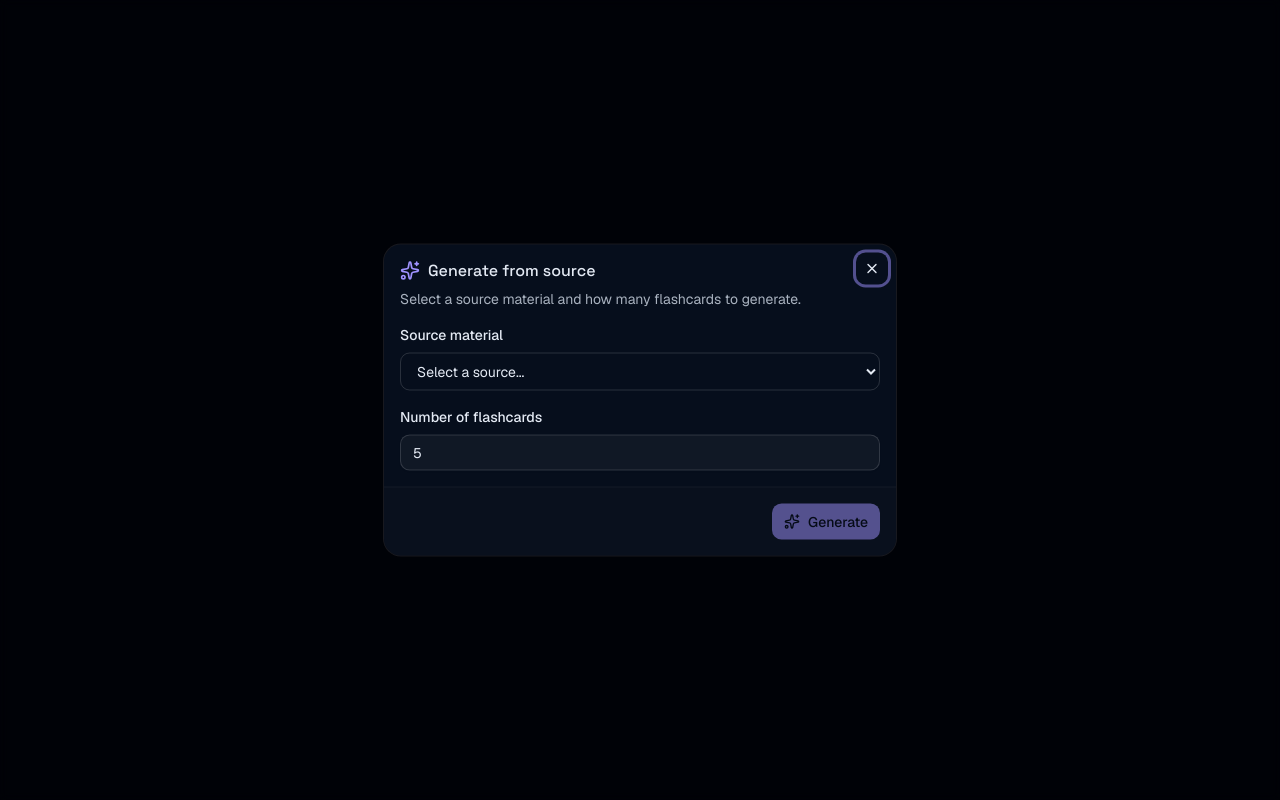
Test: GenerateFromSourceDialog › runs generation and reaches the review step with produced cards
The image size is (1280, 800).
Select "Lecture notes (text)" in the dropdown labelled "Source material" at [640, 372], box [400,352,880,390]
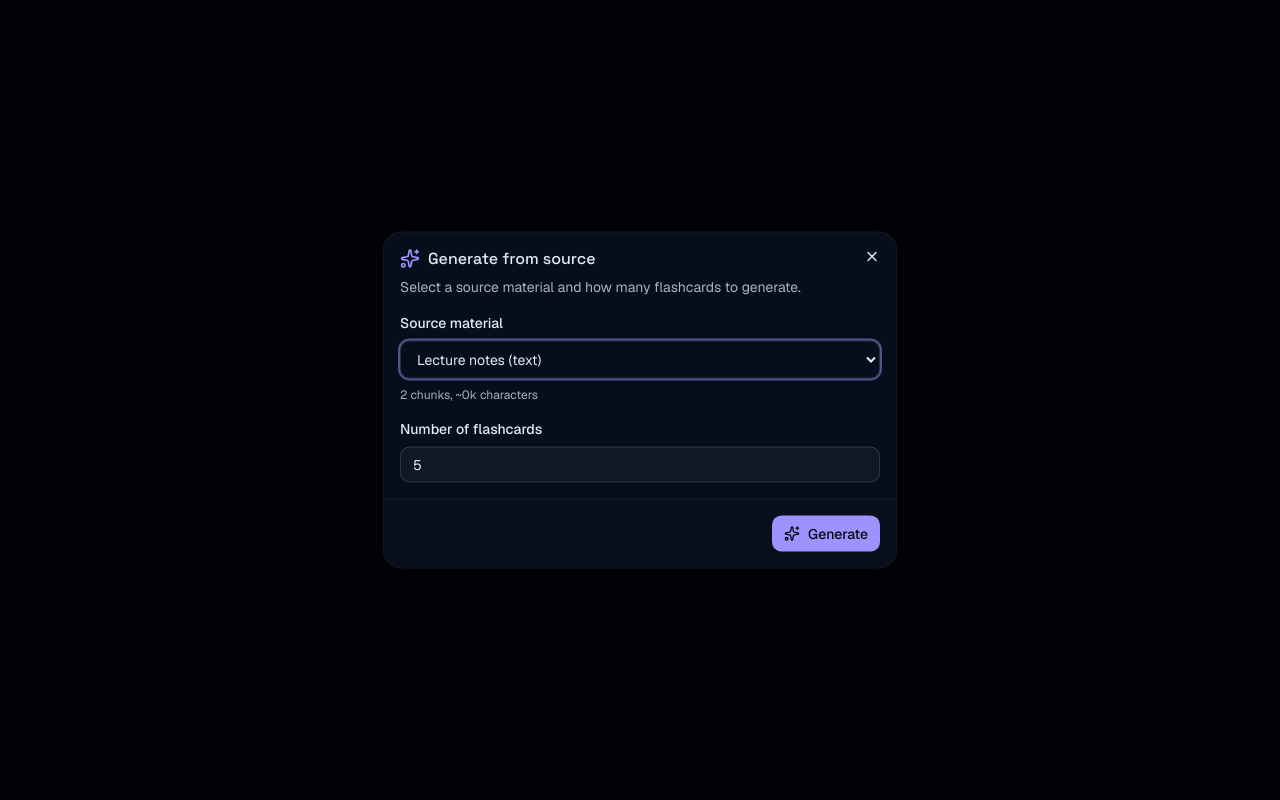
Expected: the text "2 chunks, ~0k characters" is shown, [400,386,538,402]
Click the button "Generate" at [826, 534], box [772,516,880,552]
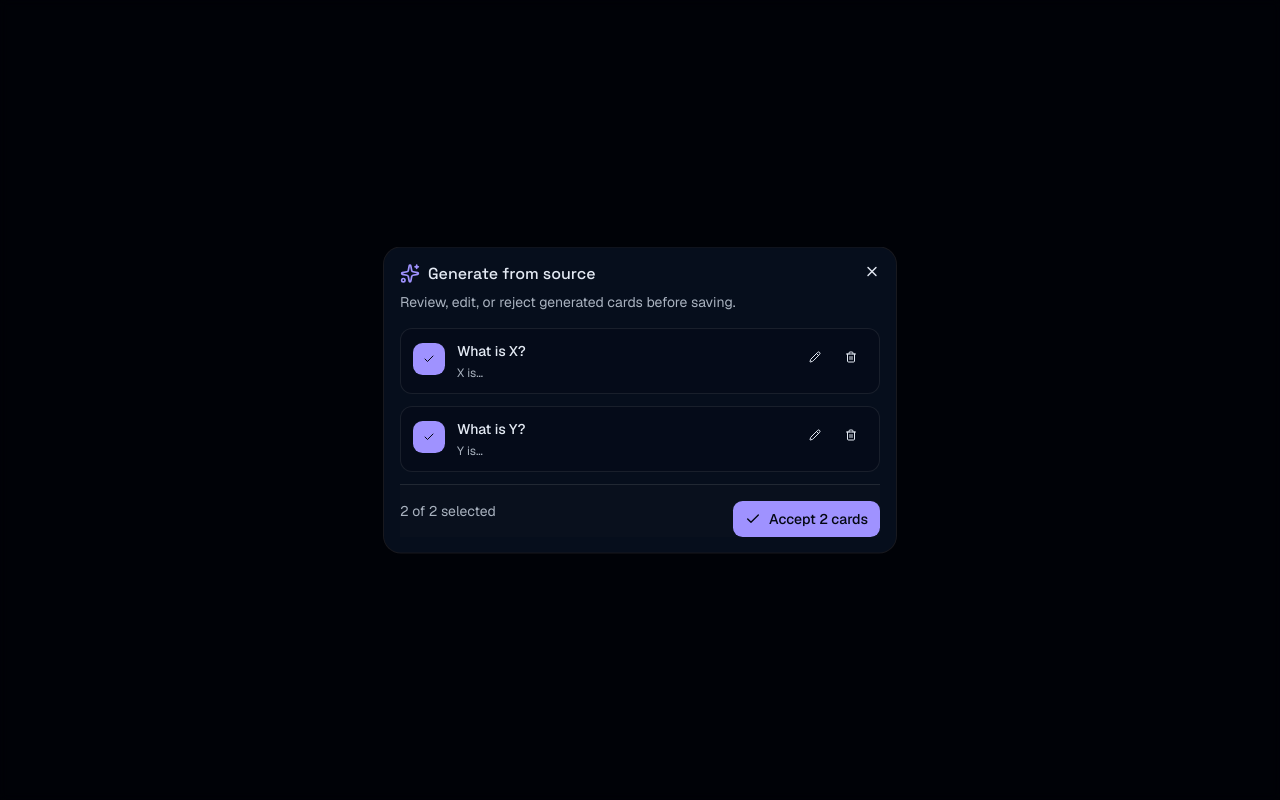
Expected: the text "What is X?" is shown, [457,342,526,360]
Expected: the text "What is Y?" is shown, [457,420,525,438]
